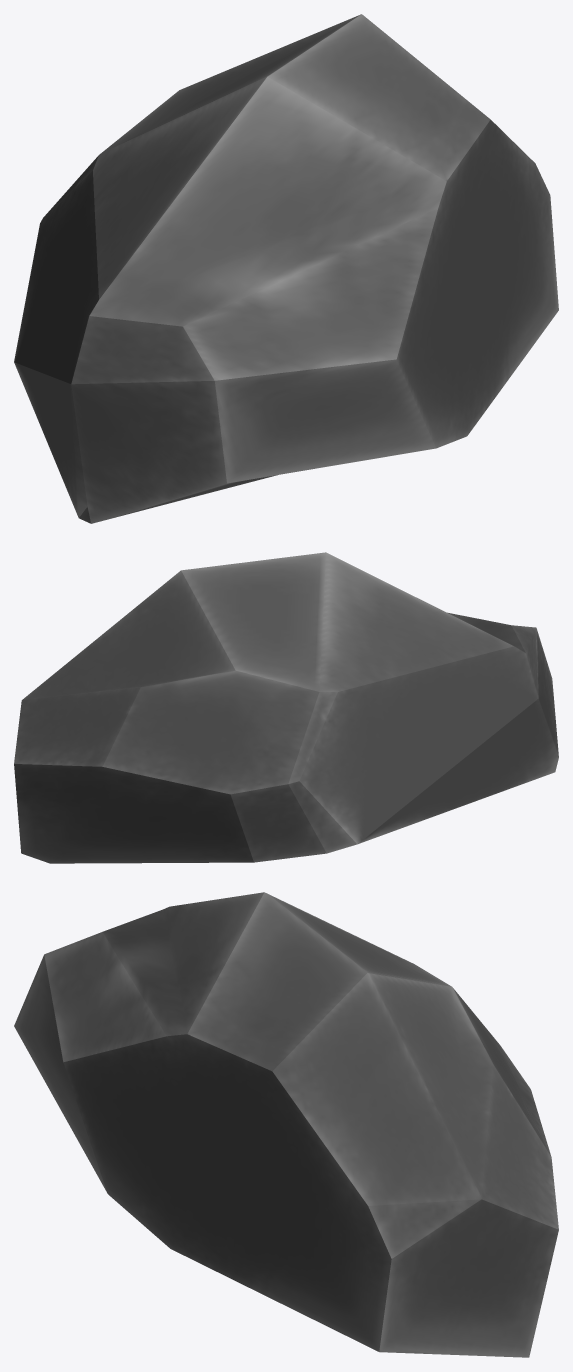
The model's file is keskin_tas.FBX.
3 views of the same model, one above another, from view 1: azimuth 30°, elevation 25°; view 2: azimuth 150°, elevation 25°; view 3: azimuth 270°, elevation 25° (orthographic). The views are drawn at different scales.
Visible parts, largest first — view 1: Object012; view 2: Object012; view 3: Object012.
Part boxes in pixels (<box>): Object012: <box>14,14,558,523</box>; Object012: <box>14,552,558,863</box>; Object012: <box>14,892,558,1357</box>.
Size of the model in its own units: 732 by 485 by 657.
1 material, 1 textured.
